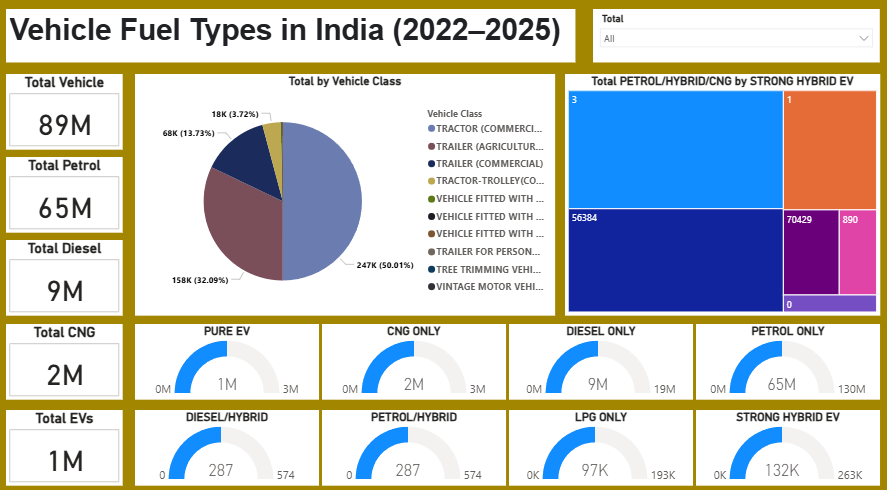

The page's visual inventory and layout, read from the dashboard file:
{"tool":"powerbi","page":{"name":"Page 1","canvas":[1280,720],"ordinal":0},"visuals":[{"type":"textbox","box":[10.1,20.2,819.7,77.3],"z":0},{"type":"cardVisual","title":"Total Vehicle","fields":{"Data":["Sum(Vehicle Fuel Types in India (2022–2025).Total)"]},"box":[10.1,113.8,168.5,109.4],"z":1},{"type":"cardVisual","title":"Total Petrol","fields":{"Data":["Sum(Vehicle Fuel Types in India (2022–2025).PETROL)"]},"box":[10.1,233.3,168.5,109.4],"z":2},{"type":"cardVisual","title":"Total CNG","fields":{"Data":["Sum(Vehicle Fuel Types in India (2022–2025).CNG ONLY)"]},"box":[10.1,473.8,168.5,109.4],"z":3},{"type":"cardVisual","title":"Total EVs","fields":{"Data":["Sum(Vehicle Fuel Types in India (2022–2025).PURE EV)"]},"box":[10.1,597.6,168.5,109.4],"z":4},{"type":"cardVisual","title":"Total Diesel","fields":{"Data":["Sum(Vehicle Fuel Types in India (2022–2025).DIESEL)"]},"box":[10.1,352.8,168.5,109.4],"z":5},{"type":"pieChart","title":"Total by Vehicle Class","fields":{"Category":["Vehicle Fuel Types in India (2022–2025).Vehicle Class"],"Y":["Sum(Vehicle Fuel Types in India (2022–2025).Total)"]},"box":[196.5,114.2,604.7,347.7],"z":6},{"type":"slicer","fields":{"Values":["Vehicle Fuel Types in India (2022–2025).Total"]},"box":[855,20.2,413.2,77.3],"z":7},{"type":"treemap","title":"Total PETROL/HYBRID/CNG by STRONG HYBRID EV","fields":{"Group":["Vehicle Fuel Types in India (2022–2025).STRONG HYBRID EV"],"Values":["Sum(Vehicle Fuel Types in India (2022–2025).PETROL/HYBRID/CNG)"]},"box":[814.7,114.2,453.5,347.7],"z":8},{"type":"gauge","title":"PURE EV","fields":{"Y":["Sum(Vehicle Fuel Types in India (2022–2025).PURE EV)"]},"box":[195.8,473.8,265,109.4],"z":9},{"type":"gauge","title":"CNG ONLY","fields":{"Y":["Sum(Vehicle Fuel Types in India (2022–2025).CNG ONLY)"]},"box":[465.1,473.8,265,109.4],"z":10},{"type":"gauge","title":"DIESEL ONLY","fields":{"Y":["Sum(Vehicle Fuel Types in India (2022–2025).DIESEL)"]},"box":[734.4,473.8,265,109.4],"z":11},{"type":"gauge","title":"PETROL ONLY","fields":{"Y":["Sum(Vehicle Fuel Types in India (2022–2025).PETROL)"]},"box":[1003.7,473.8,265,109.4],"z":12},{"type":"gauge","title":"DIESEL/HYBRID","fields":{"Y":["CountNonNull(Vehicle Fuel Types in India (2022–2025).DIESEL/HYBRID)"]},"box":[195.8,597.6,265,109.4],"z":13},{"type":"gauge","title":"PETROL/HYBRID","fields":{"Y":["CountNonNull(Vehicle Fuel Types in India (2022–2025).PETROL/HYBRID)"]},"box":[465.1,597.6,265,109.4],"z":14},{"type":"gauge","title":" LPG ONLY","fields":{"Y":["Sum(Vehicle Fuel Types in India (2022–2025).LPG ONLY)"]},"box":[734.4,597.6,265,109.4],"z":15},{"type":"gauge","title":"STRONG HYBRID EV","fields":{"Y":["Sum(Vehicle Fuel Types in India (2022–2025).STRONG HYBRID EV)"]},"box":[1003.7,597.6,265,109.4],"z":16}]}

Visuals, with their boxes in screenshot pixels (x1, y1, x2, y2), scaled from the page's 1280x720 canvas onto the 887x490 screenshot:
textbox: 7 14 575 66
"Total Vehicle" cardVisual: 7 77 124 152
"Total Petrol" cardVisual: 7 159 124 233
"Total CNG" cardVisual: 7 322 124 397
"Total EVs" cardVisual: 7 407 124 481
"Total Diesel" cardVisual: 7 240 124 315
"Total by Vehicle Class" pieChart: 136 78 555 314
slicer - Vehicle Fuel Types in India (2022–2025).Total: 592 14 879 66
"Total PETROL/HYBRID/CNG by STRONG HYBRID EV" treemap: 565 78 879 314
"PURE EV" gauge: 136 322 319 397
"CNG ONLY" gauge: 322 322 506 397
"DIESEL ONLY" gauge: 509 322 693 397
"PETROL ONLY" gauge: 696 322 879 397
"DIESEL/HYBRID" gauge: 136 407 319 481
"PETROL/HYBRID" gauge: 322 407 506 481
" LPG ONLY" gauge: 509 407 693 481
"STRONG HYBRID EV" gauge: 696 407 879 481
